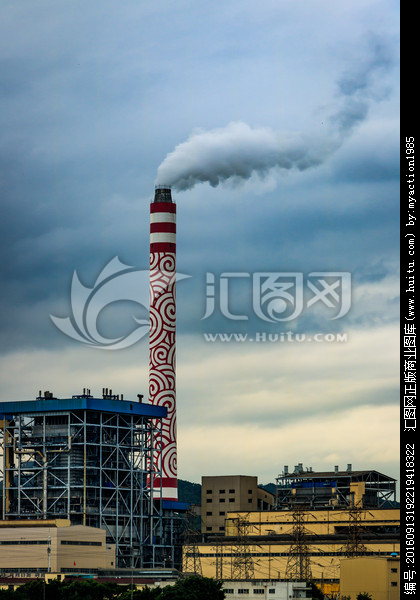dust: (135, 109, 354, 212)
